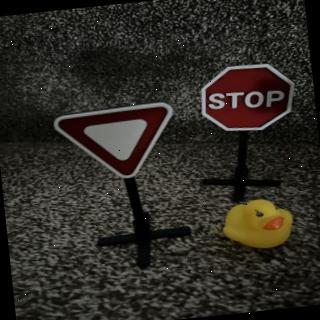duck_regular: (221, 197, 297, 255)
sign_stop: (198, 61, 300, 139)
sign_yield: (53, 102, 181, 187)
